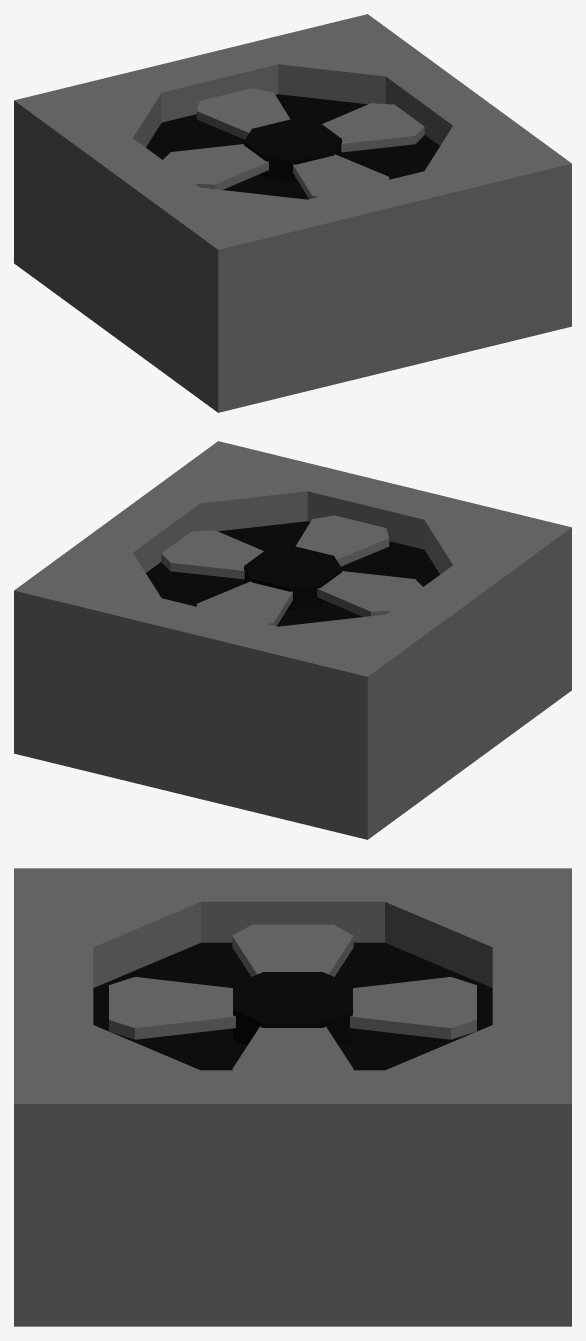
The model's file is Prop_RoofVent_04.fbx.
The picture shows the model from 3 angles, top to bottom: view 1: azimuth 30°, elevation 25°; view 2: azimuth 150°, elevation 25°; view 3: azimuth 270°, elevation 25°; orthographic projection. The views are drawn at different scales.
Parts seen in each view (by area): view 1: Prop_RoofVent_04; view 2: Prop_RoofVent_04; view 3: Prop_RoofVent_04.
Part boxes in pixels (x1,y1,x2,y2): Prop_RoofVent_04: (14, 14, 571, 412); Prop_RoofVent_04: (14, 441, 571, 839); Prop_RoofVent_04: (14, 868, 571, 1326).
Bounding box in the file's own units: 81.28 × 35.8 × 81.28.
